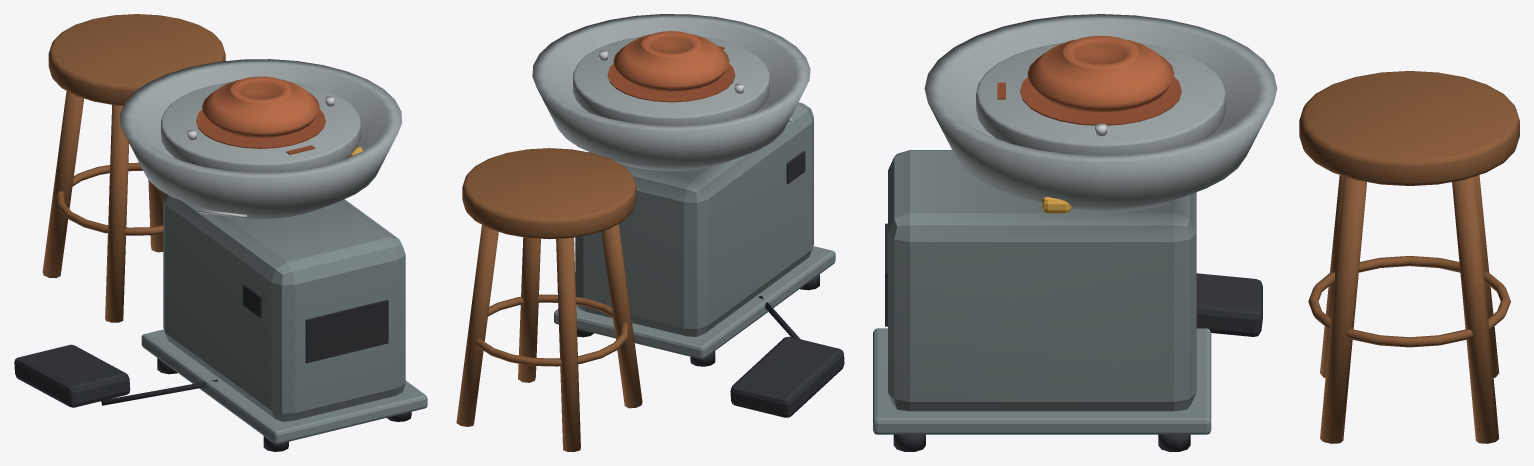
Rendered from potteryWheel.glb.
3 views of the same model, side by side, from view 1: azimuth 30°, elevation 25°; view 2: azimuth 150°, elevation 25°; view 3: azimuth 270°, elevation 25° (orthographic). The views are drawn at different scales.
Parts seen in each view (by area): view 1: body, wheel_head, pot; view 2: body, wheel_head, pot; view 3: body, wheel_head, pot.
Boxes of the visible parts, x1=… form: body: x1=14, y1=14, x2=427, y2=451; wheel_head: x1=161, y1=82, x2=360, y2=172; pot: x1=202, y1=76, x2=319, y2=137; body: x1=456, y1=14, x2=844, y2=451; wheel_head: x1=573, y1=36, x2=769, y2=125; pot: x1=613, y1=31, x2=729, y2=91; body: x1=873, y1=14, x2=1519, y2=451; wheel_head: x1=976, y1=43, x2=1225, y2=155; pot: x1=1027, y1=35, x2=1174, y2=112.
Size of the model in its own units: 0.6 by 0.5443 by 0.88.
